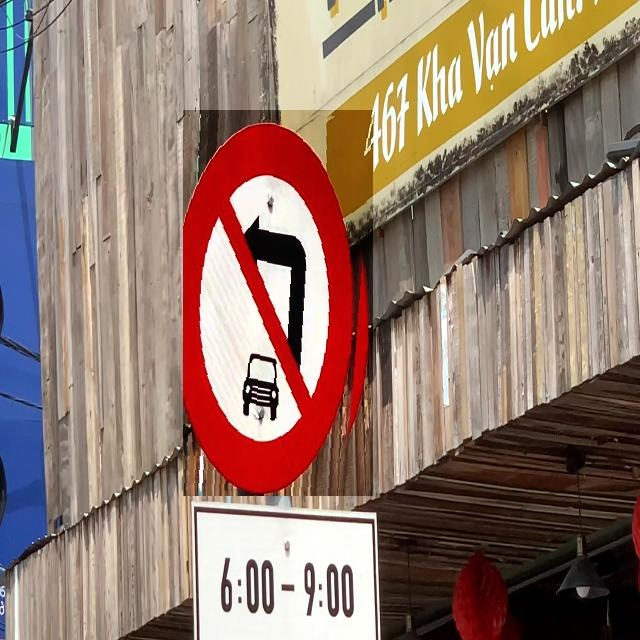bien_cam: (183, 110, 373, 496)
